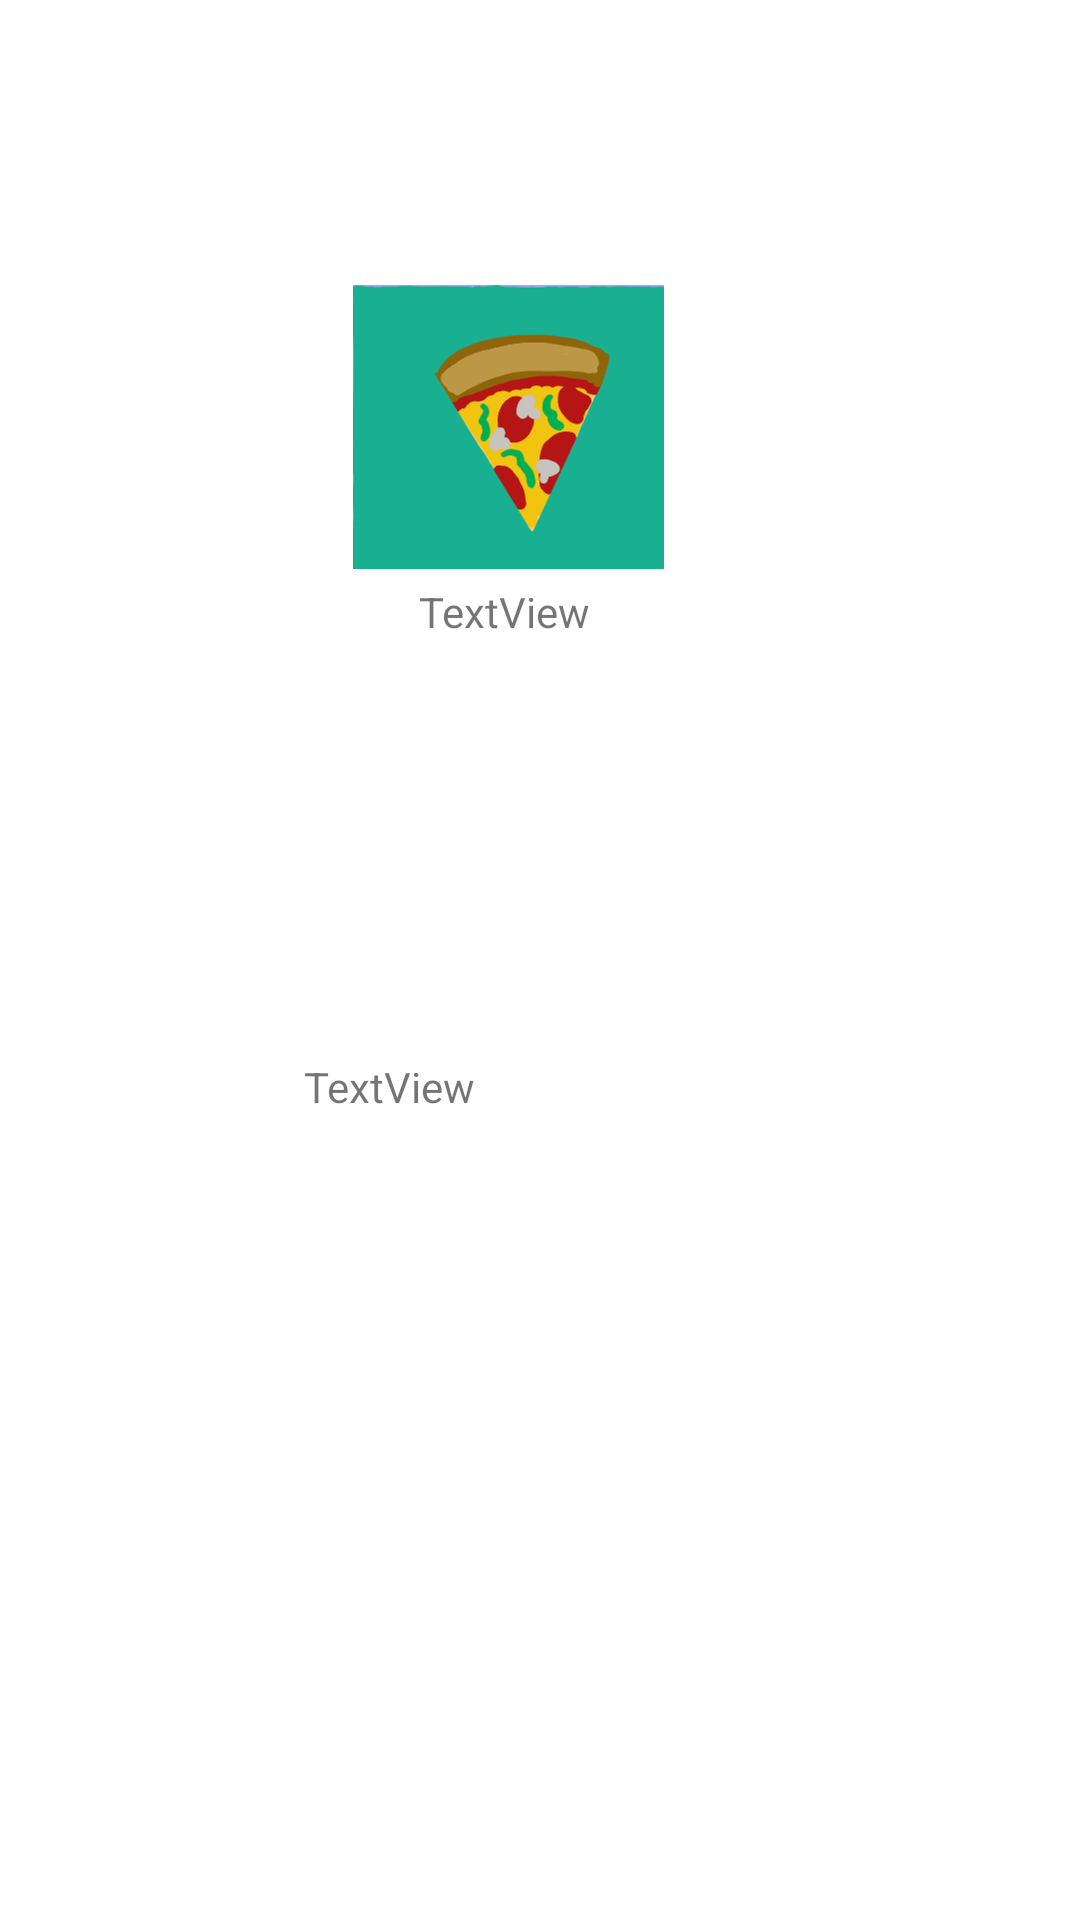

Where icons sit on this 1080px x 1920px app screen, as Rect(x1, y1, x2, y2):
pizza: Rect(353, 285, 664, 569)
